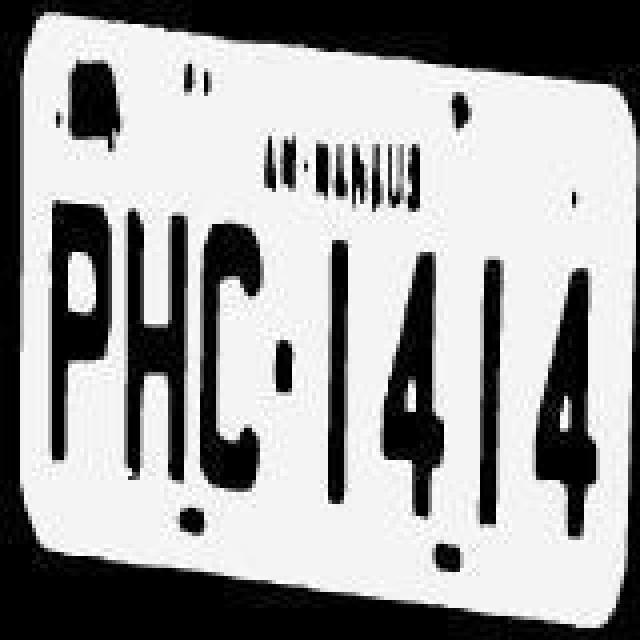1: (464, 248, 512, 528), (314, 226, 358, 510)
4: (532, 264, 612, 536), (376, 246, 448, 530)
C: (194, 222, 270, 498)
H: (120, 202, 192, 478)
P: (42, 188, 118, 468)
